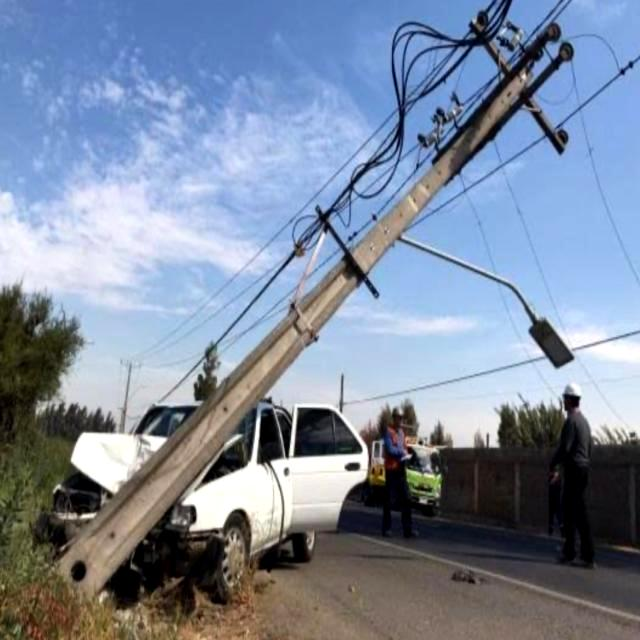Broken Pole: (50, 5, 584, 613)
